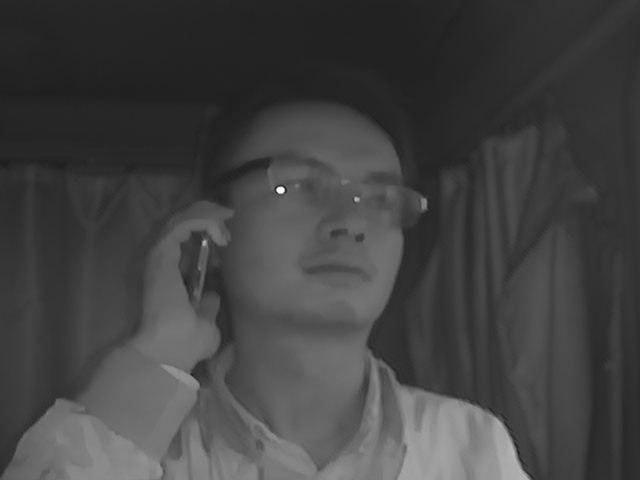hand: (137, 201, 233, 355)
